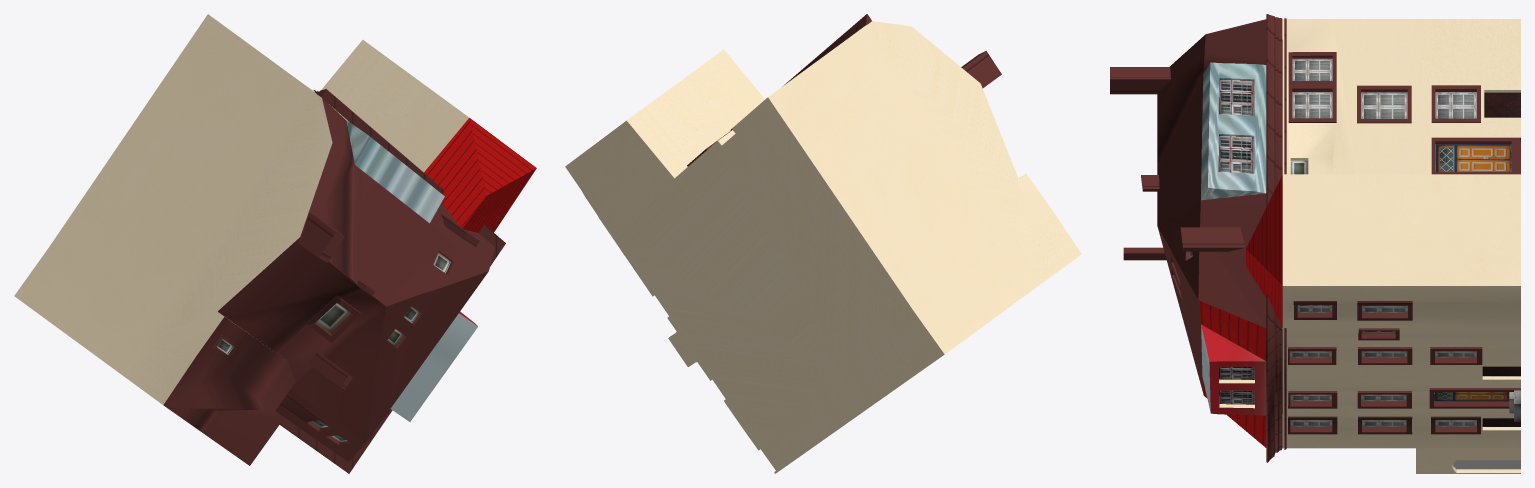
File: 192_Sauna_3.obj
3 renders of one model, left to right at view 1: azimuth 30°, elevation 25°; view 2: azimuth 150°, elevation 25°; view 3: azimuth 270°, elevation 25°, orthographic. The views are drawn at different scales.
Parts seen in each view (by area): view 1: Box01; view 2: Box01; view 3: Box01.
Part boxes in pixels (bbox=[...]): Box01: bbox=[14, 14, 536, 473]; Box01: bbox=[565, 14, 1081, 473]; Box01: bbox=[1110, 14, 1520, 473].
Size of the model in its own units: 23.18 by 22.22 by 17.71.
